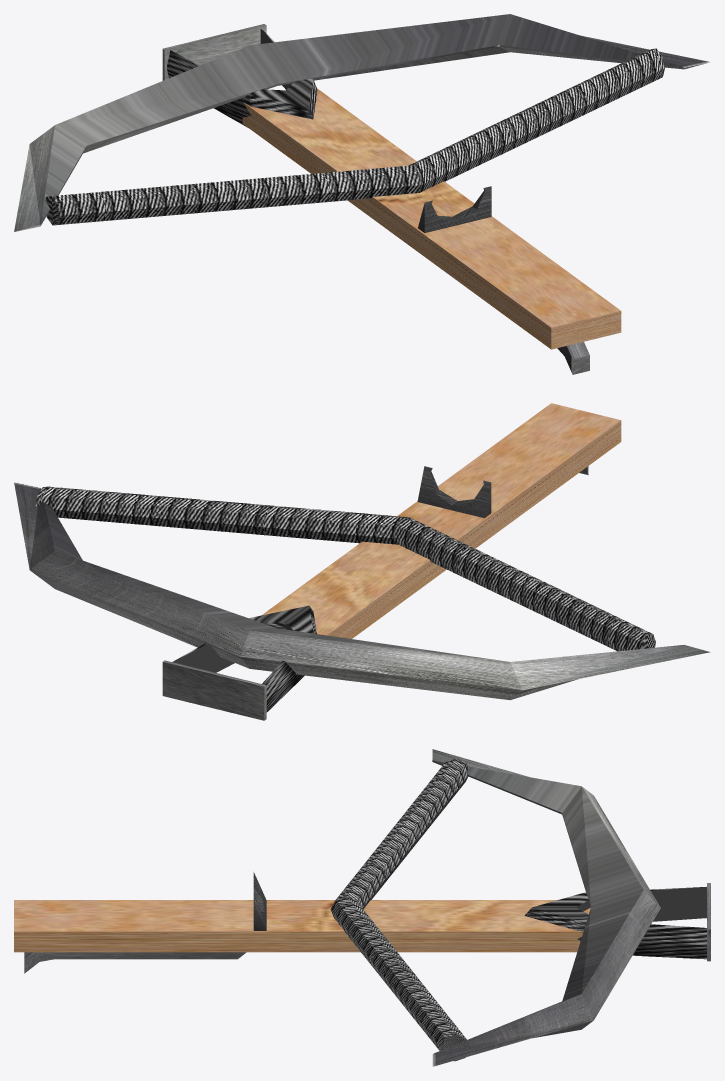
File: Crossbow14.obj
The picture shows the model from 3 angles, top to bottom: view 1: azimuth 30°, elevation 25°; view 2: azimuth 150°, elevation 25°; view 3: azimuth 270°, elevation 25°; orthographic projection. The views are drawn at different scales.
Parts seen in each view (by area): view 1: Sphere; view 2: Sphere; view 3: Sphere.
Part boxes in pixels (x1=…): Sphere: x1=14, y1=14, x2=710, y2=374; Sphere: x1=14, y1=403, x2=710, y2=720; Sphere: x1=14, y1=749, x2=710, y2=1066.
Size of the model in its own units: 5.04 by 0.6142 by 4.67.
